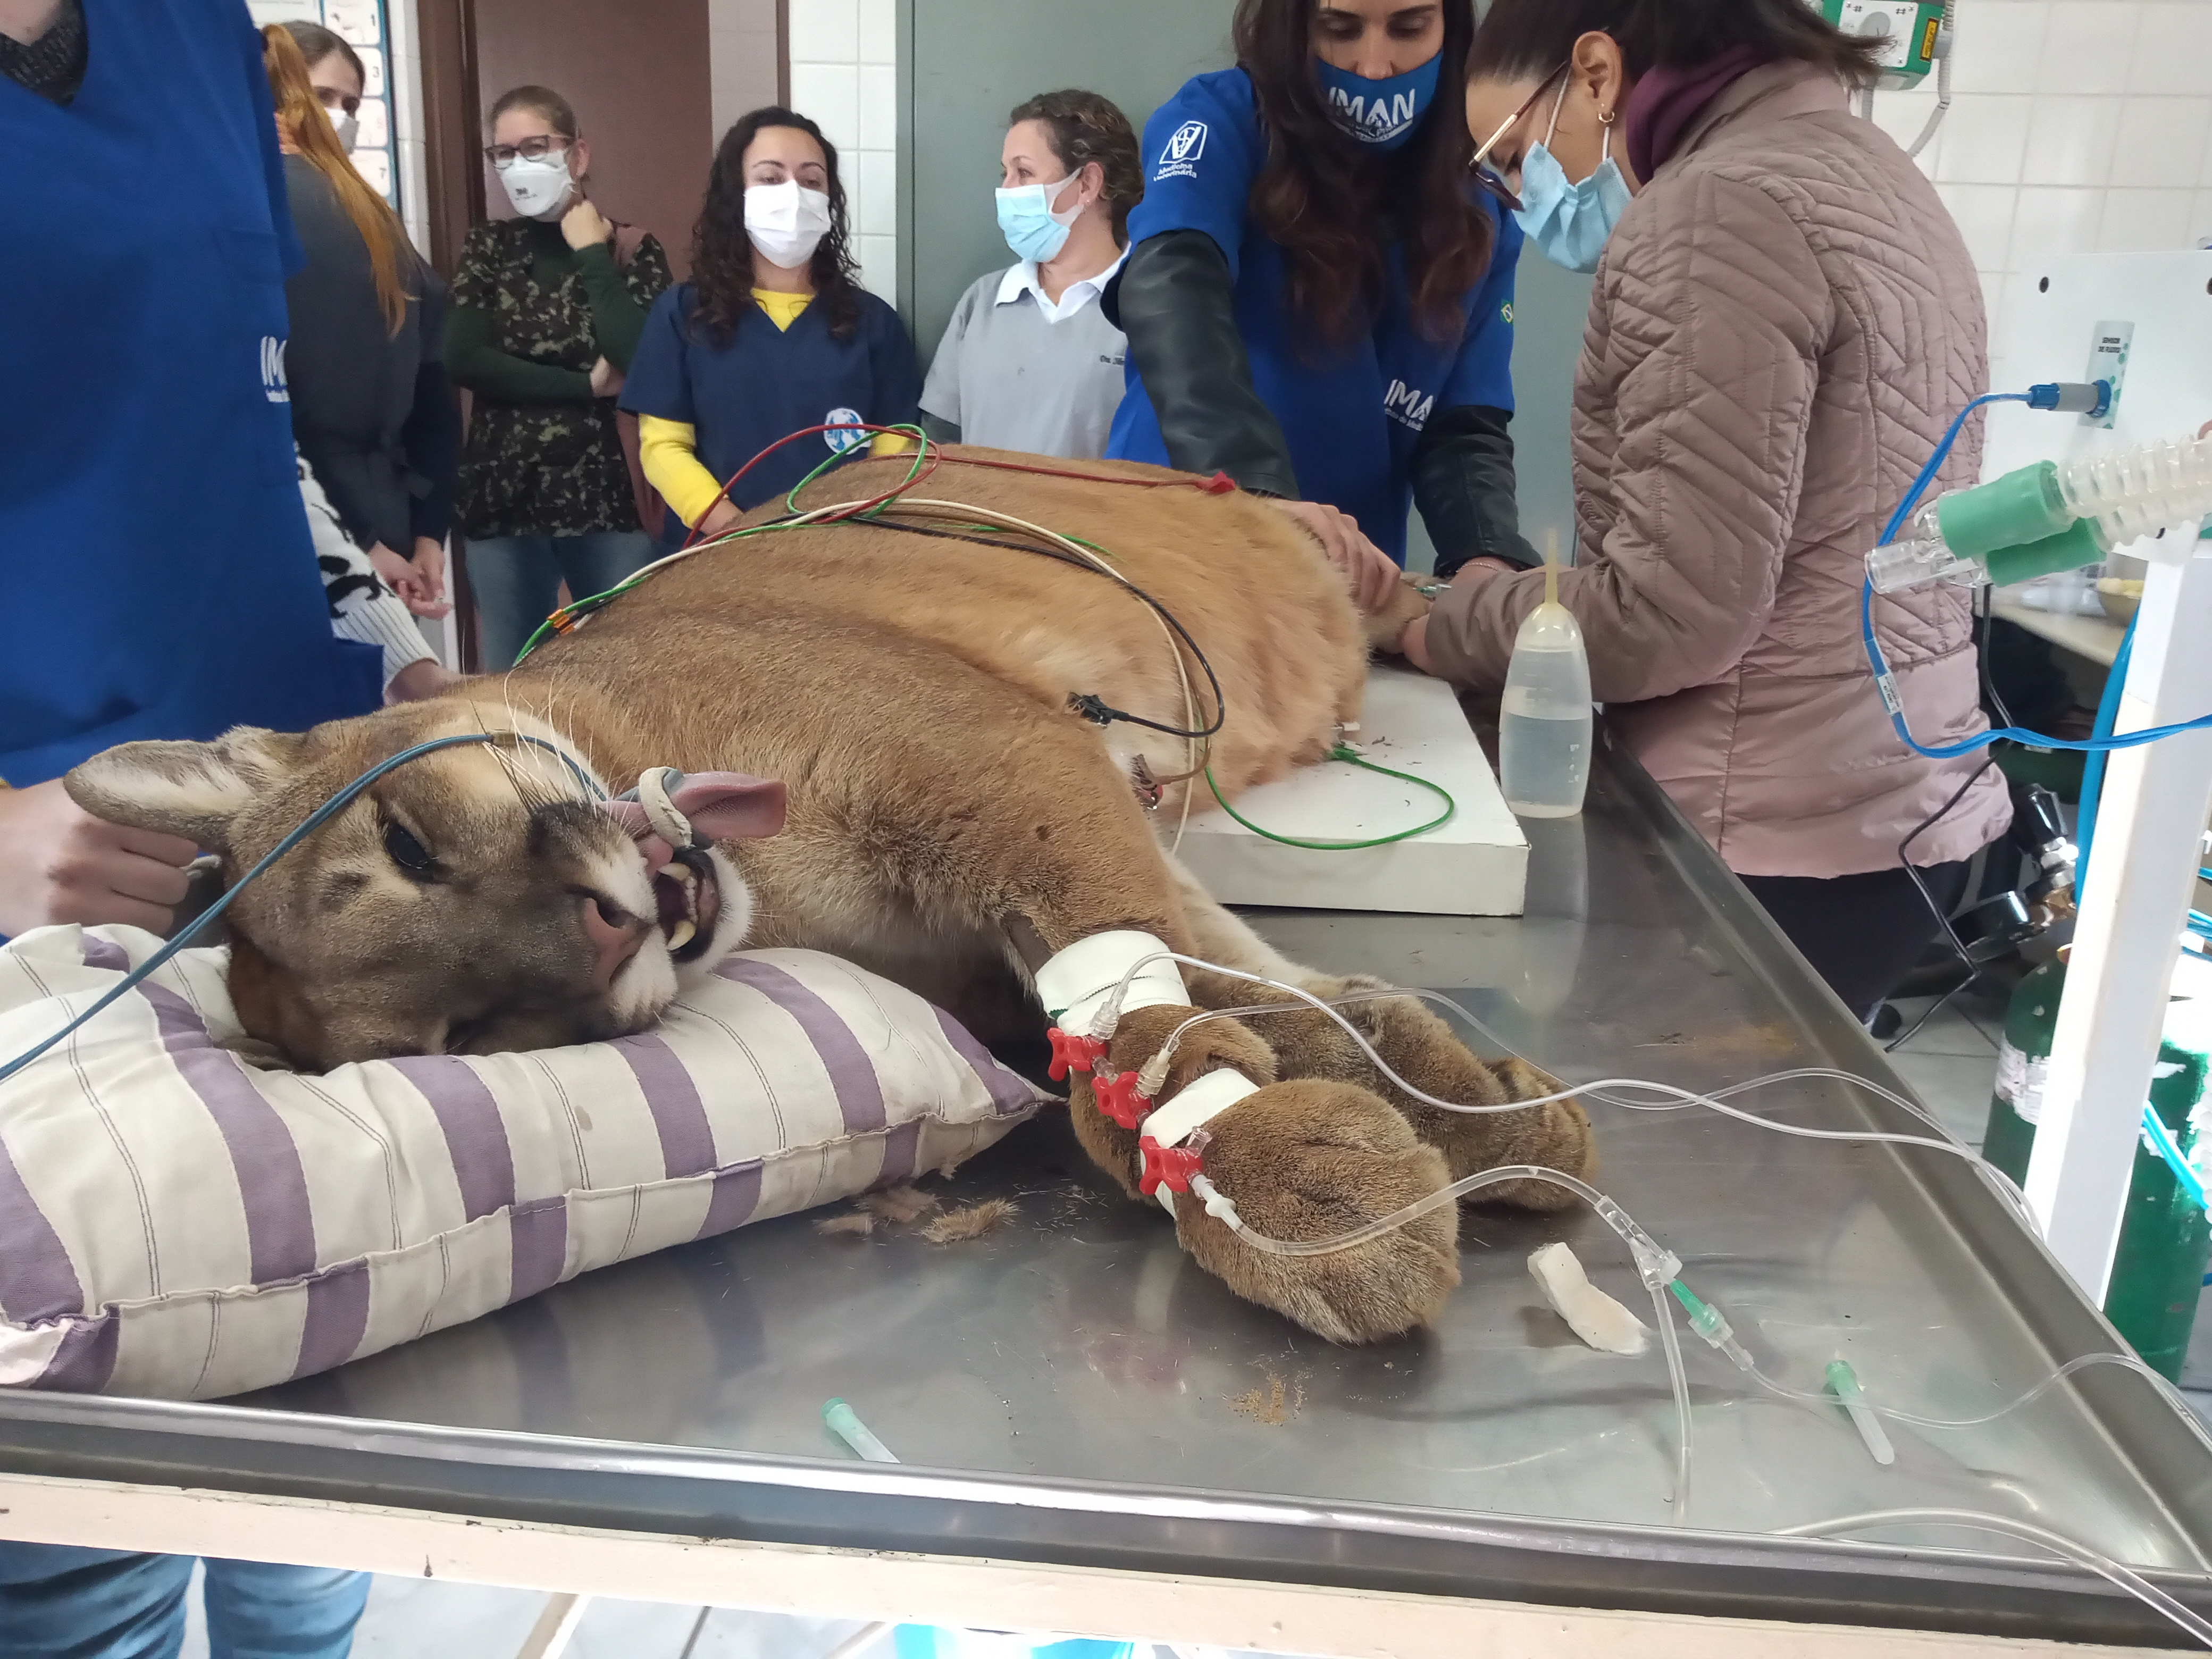OncaParda: (162, 411, 1599, 1345)
